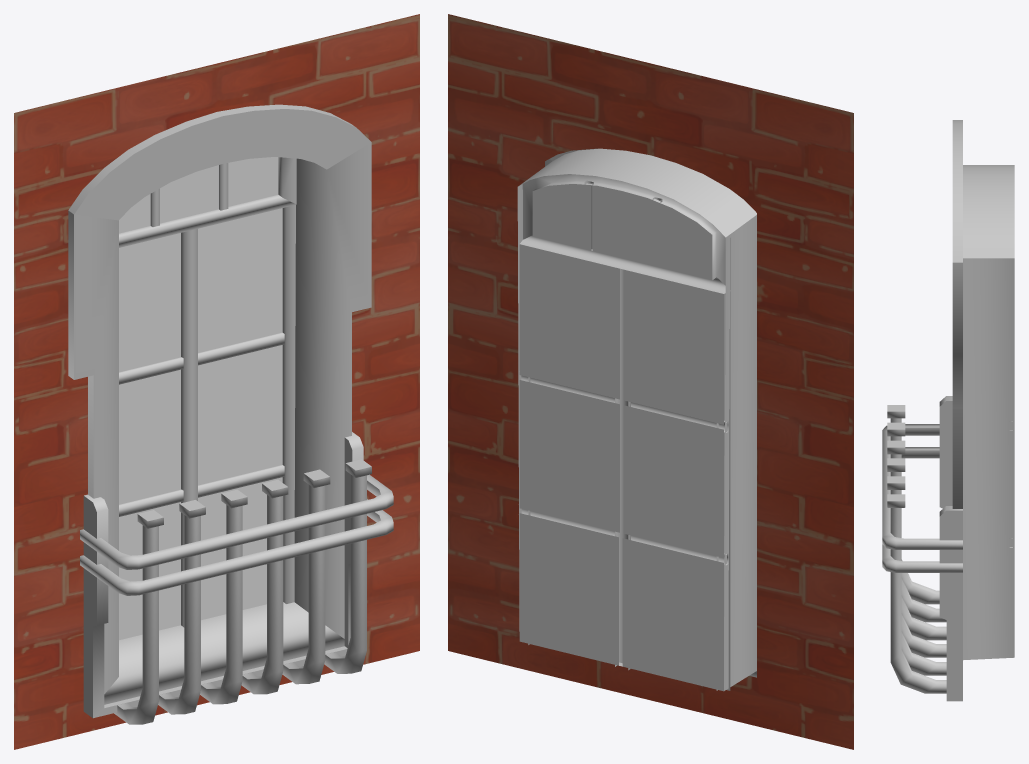
File: Window_05.fbx
3 renders of one model, left to right at view 1: azimuth 30°, elevation 25°; view 2: azimuth 150°, elevation 25°; view 3: azimuth 270°, elevation 25°, orthographic. The views are drawn at different scales.
Visible parts, largest first — view 1: Window_05; view 2: Window_05; view 3: Window_05.
Boxes of the visible parts, bbox=[...] form: Window_05: bbox=[14, 14, 419, 749]; Window_05: bbox=[448, 14, 853, 749]; Window_05: bbox=[882, 120, 1014, 701].
Size of the model in its own units: 2 by 3 by 0.6397.
